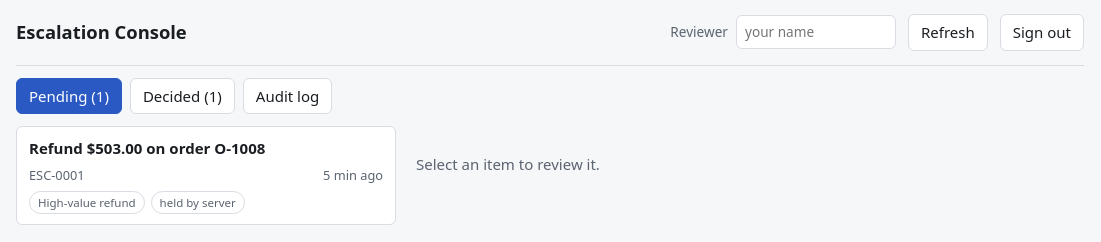
Scenario: Console › moves decided items to their own tab
Expected: the text "Refund $503.00 on order O-1008" is shown, [29,138,265,158]
Expected: the text "Printer jam" is not shown
Click the button "Decided (1)": [182, 96] box [130,78,235,114]
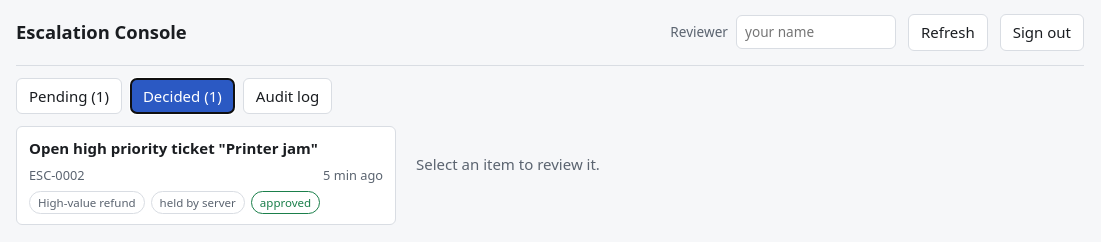
Expected: the text "Open high priority ticket \"Printer jam\"" is shown, [29,138,318,158]
